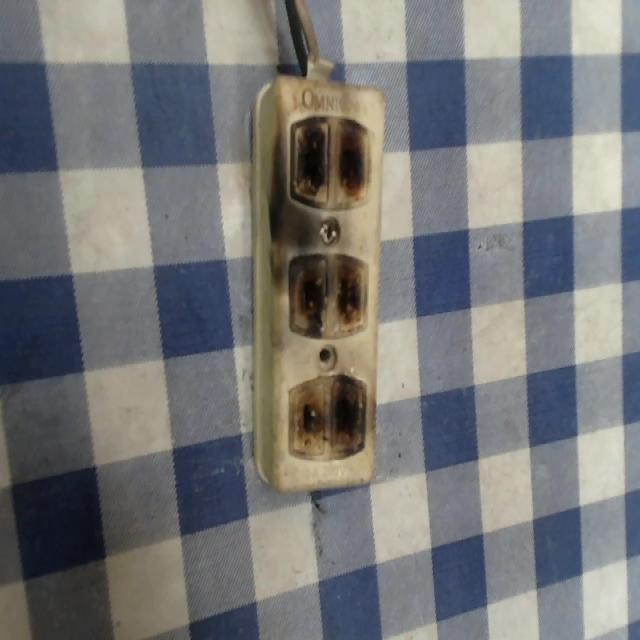-: (286, 109, 372, 208), (285, 247, 371, 341), (285, 371, 368, 458)
